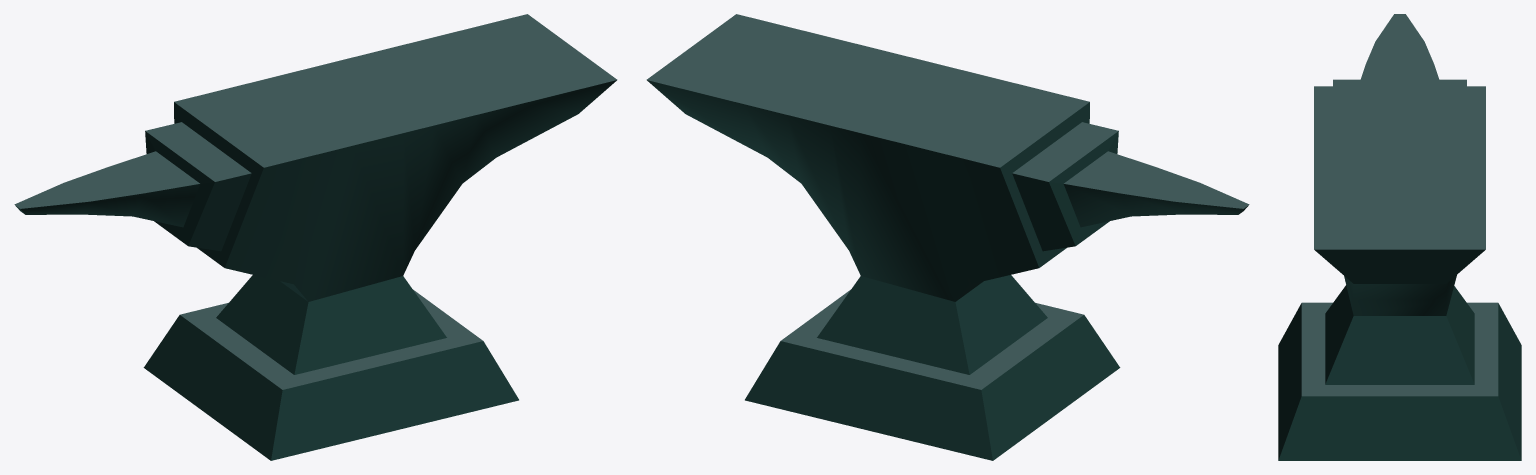
The model's file is bigorna.fbx.
The picture shows the model from 3 angles, left to right: view 1: azimuth 30°, elevation 25°; view 2: azimuth 150°, elevation 25°; view 3: azimuth 270°, elevation 25°; orthographic projection. The views are drawn at different scales.
Visible parts, largest first — view 1: bigorna; view 2: bigorna; view 3: bigorna.
Boxes of the visible parts, x1,y1,x2,y2 form: bigorna: (14,14,617,460); bigorna: (646,14,1249,460); bigorna: (1278,14,1521,460).
Size of the model in its own units: 87.31 by 41.81 by 34.69.
